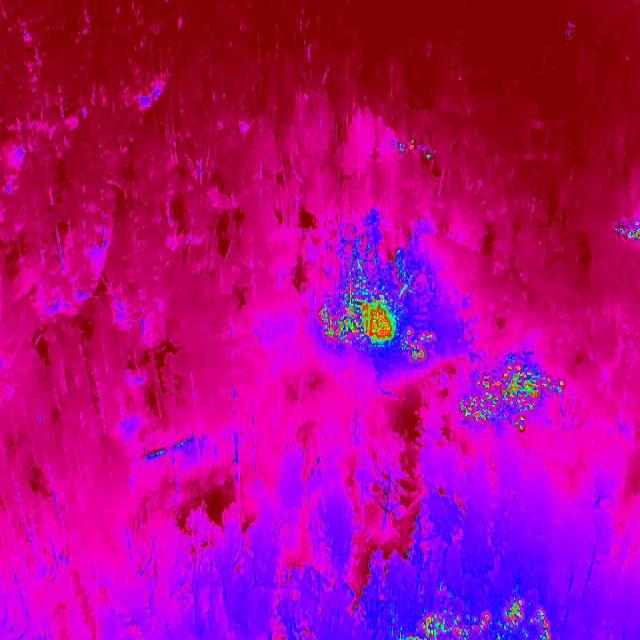fire: (456, 362, 570, 436), (406, 595, 554, 640), (319, 282, 397, 362), (399, 326, 434, 365), (613, 219, 640, 247), (394, 137, 416, 155), (564, 19, 577, 39), (422, 149, 432, 162)
